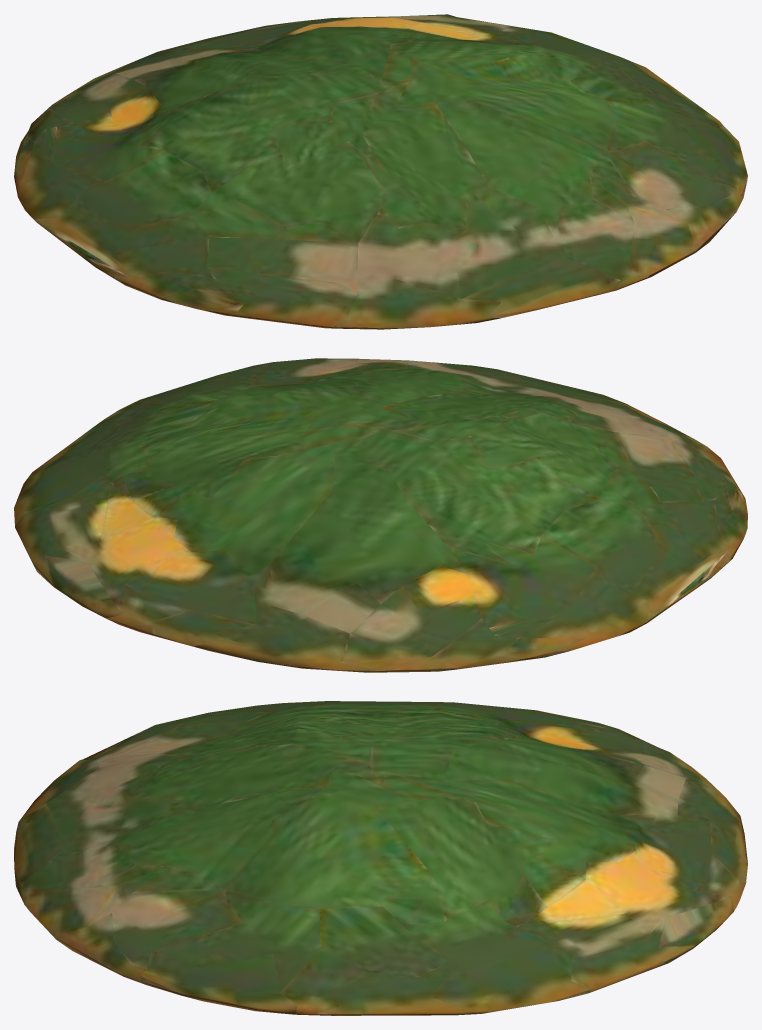
The model's file is Hill.lod1.glb.
The picture shows the model from 3 angles, top to bottom: view 1: azimuth 30°, elevation 25°; view 2: azimuth 150°, elevation 25°; view 3: azimuth 270°, elevation 25°; orthographic projection. The views are drawn at different scales.
Bounding box in the file's own units: 7.99 × 1.2 × 8.
1 material, 1 textured.
